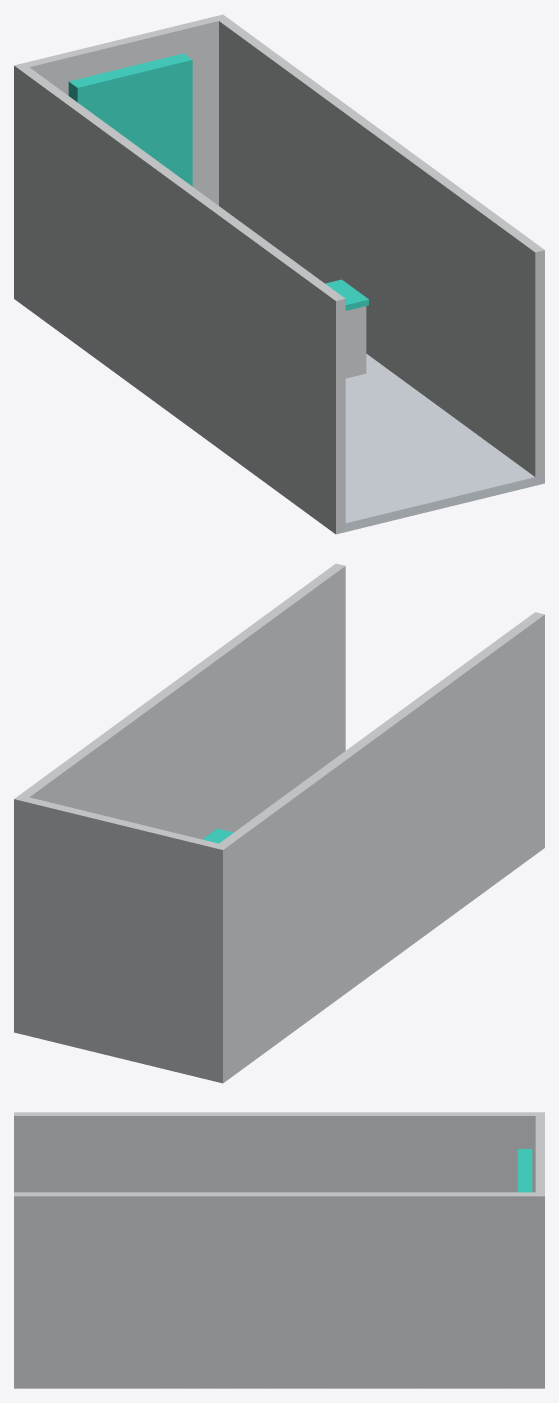
3 views of the same model, one above another, from view 1: azimuth 30°, elevation 25°; view 2: azimuth 150°, elevation 25°; view 3: azimuth 270°, elevation 25° (orthographic). The views are drawn at different scales.
Visible parts, largest first — view 1: Exhibition Booth Concept; view 2: Exhibition Booth Concept; view 3: Exhibition Booth Concept.
Boxes of the visible parts, x1,y1,x2,y2 form: Exhibition Booth Concept: (14, 14, 544, 534); Exhibition Booth Concept: (14, 563, 544, 1083); Exhibition Booth Concept: (14, 1112, 544, 1388).
Bounding box in the file's own units: 3 × 3.2 × 8.
